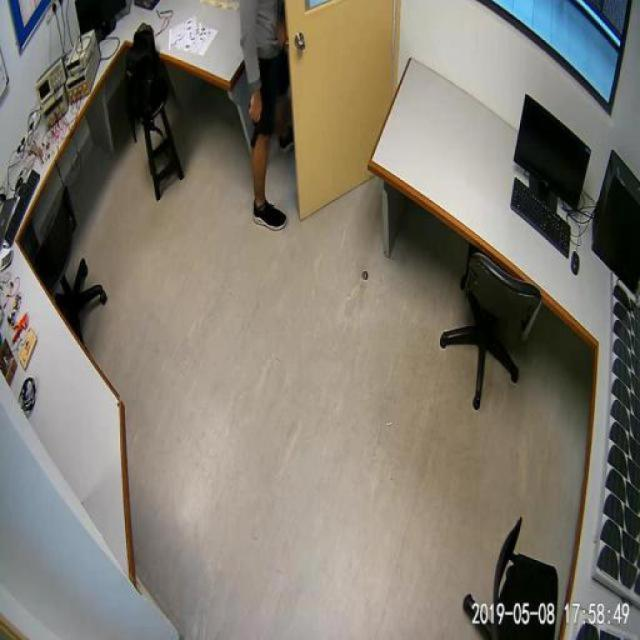pistol: (246, 102, 263, 146)
